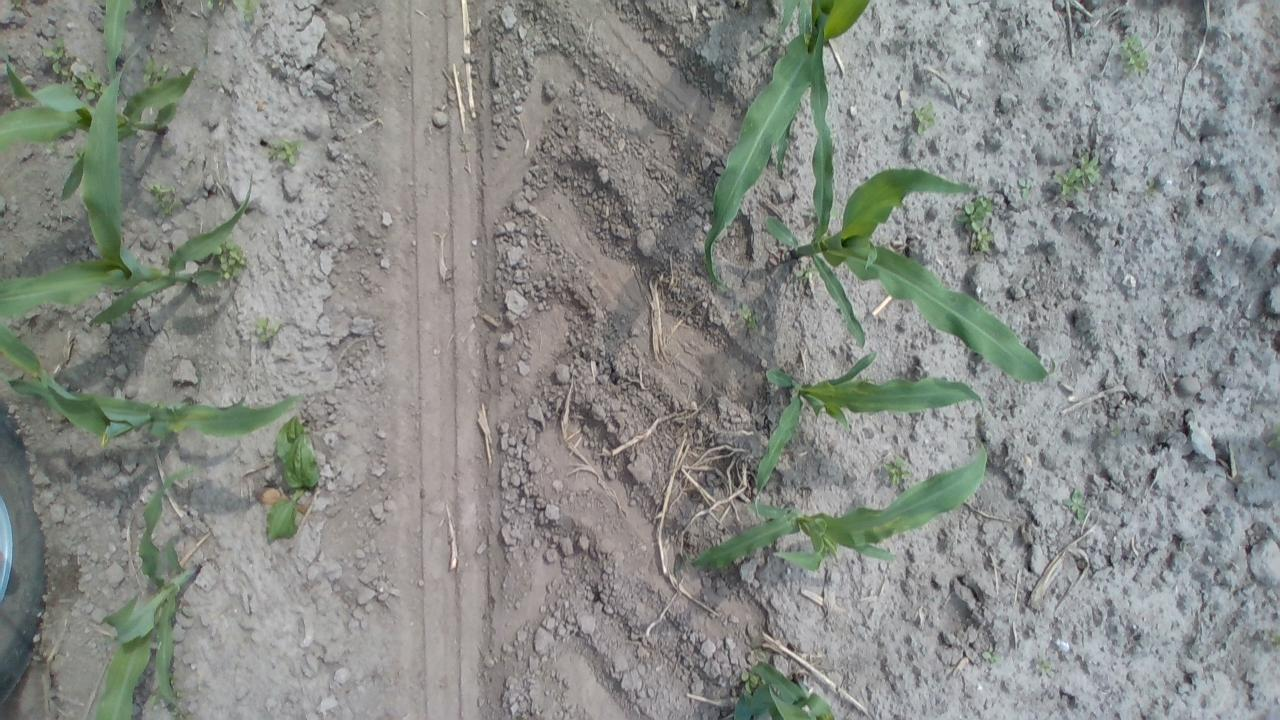Maize: (762, 19, 1052, 388), (0, 36, 258, 326), (702, 0, 878, 292), (0, 0, 206, 209), (679, 444, 992, 578), (742, 349, 988, 516), (0, 318, 307, 445), (78, 463, 208, 720), (727, 661, 844, 720)
Weeds: (262, 413, 320, 540), (38, 36, 104, 100), (1052, 153, 1104, 202), (959, 194, 998, 254), (214, 238, 250, 284), (202, 0, 272, 23), (1120, 31, 1149, 78), (1057, 487, 1090, 528), (878, 455, 913, 493), (270, 136, 306, 170), (148, 180, 177, 219), (141, 59, 173, 90), (252, 313, 280, 348), (909, 101, 938, 134), (736, 663, 769, 688), (734, 304, 762, 332), (795, 263, 826, 285), (1028, 654, 1056, 674), (1266, 420, 1280, 460), (1016, 178, 1034, 206), (1263, 626, 1280, 652), (982, 646, 1002, 667)
